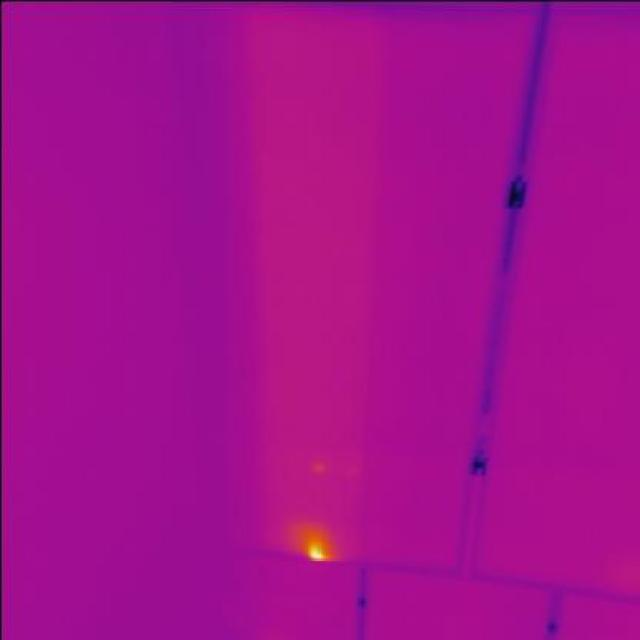hotspot: (300, 536, 332, 567)
